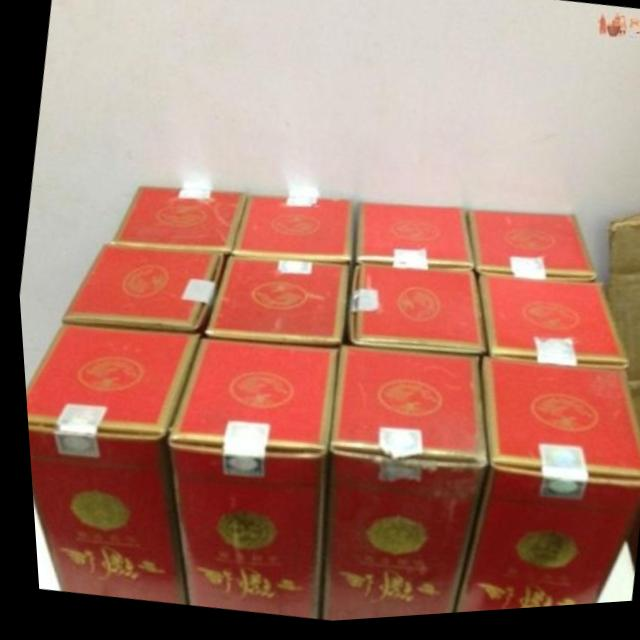box: (445, 360, 640, 618), (20, 324, 196, 605), (161, 339, 331, 621), (313, 348, 479, 624), (56, 243, 225, 334), (472, 278, 622, 377), (198, 257, 346, 350), (343, 269, 480, 360), (106, 187, 244, 257), (462, 215, 592, 288), (601, 223, 640, 461), (226, 196, 349, 265), (351, 206, 468, 275)
